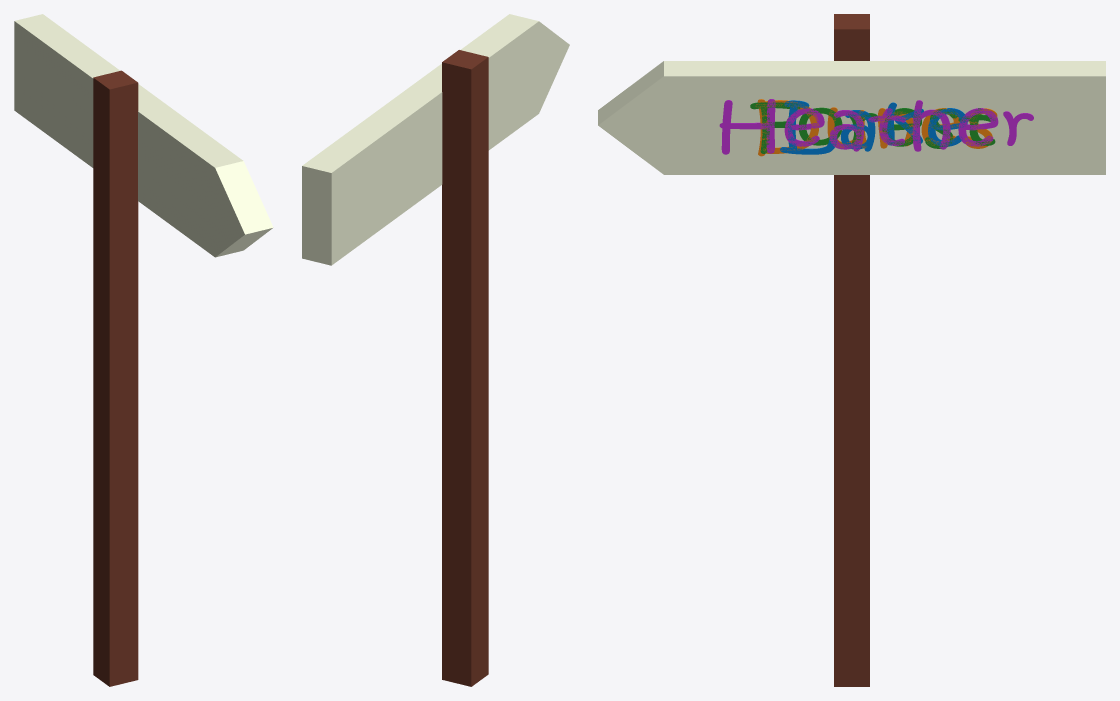
The model's file is sign heather 1.fbx.
3 renders of one model, left to right at view 1: azimuth 30°, elevation 25°; view 2: azimuth 150°, elevation 25°; view 3: azimuth 270°, elevation 25°, orthographic. The views are drawn at different scales.
Visible parts, largest first — view 1: Cube; view 2: Cube; view 3: Cube, Text, Text.002, Text.001, Text.003.
Boxes of the visible parts, x1,y1,x2,y2 form: Cube: (14, 14, 273, 686); Cube: (302, 14, 569, 686); Cube: (598, 14, 1105, 686); Text: (719, 99, 1033, 154); Text.002: (750, 102, 995, 153); Text.001: (780, 100, 967, 154); Text.003: (755, 99, 997, 156).
Size of the model in its own units: 20.16 by 200 by 140.
